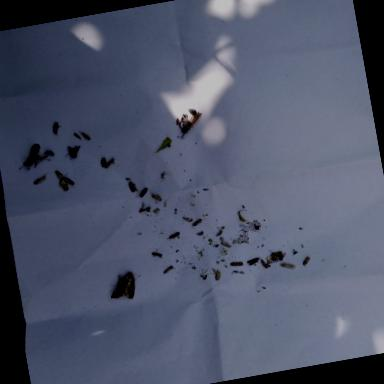abw: (106, 269, 144, 302)
pbw: (149, 190, 162, 203), (134, 187, 148, 199), (128, 180, 140, 194), (191, 217, 207, 227), (51, 122, 62, 136), (58, 177, 68, 191), (246, 256, 260, 266), (162, 264, 176, 274), (280, 261, 295, 270), (63, 175, 74, 186), (168, 230, 180, 240), (151, 250, 163, 260), (219, 240, 231, 250), (32, 176, 46, 184), (54, 169, 64, 180), (80, 130, 90, 140), (213, 268, 220, 280), (104, 160, 114, 168), (230, 260, 243, 266), (270, 252, 277, 262), (302, 256, 310, 264), (100, 157, 106, 167), (260, 258, 266, 266), (174, 118, 180, 126)
